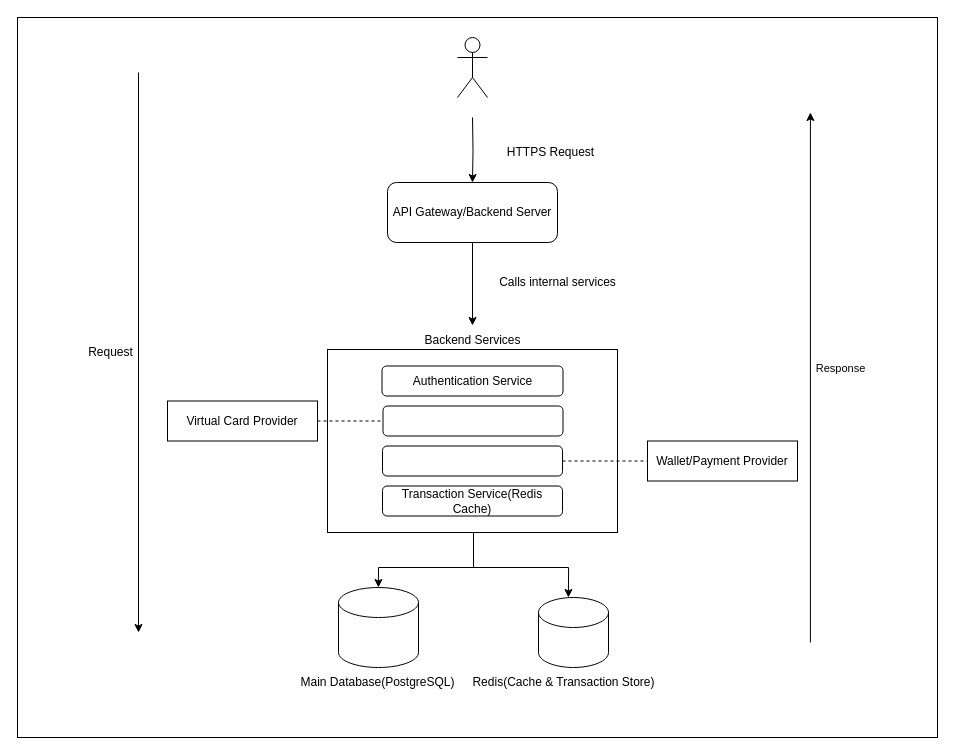
Image size: 955x755. Some labels were removed from this diagram. Each missing label, with the centre of its shape:
"Card Service(3rd party API)" belongs at pixel 472 420.
"User(Mobile or Web App)" belongs at pixel 472 67.
"Wallet Service(3rd Party API)" belongs at pixel 472 460.
